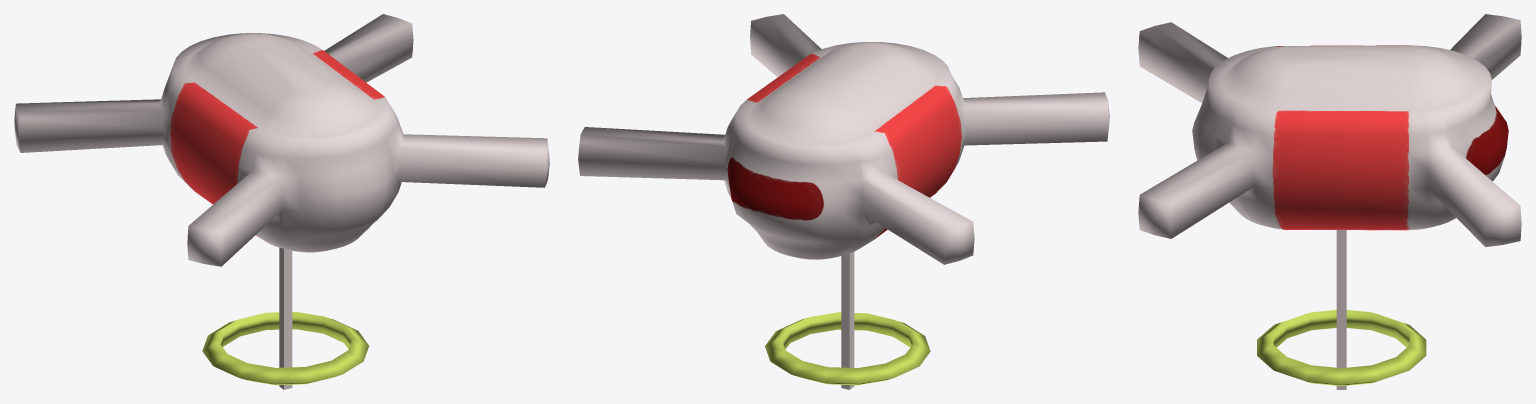
The model's file is Drone.fbx.
3 views of the same model, side by side, from view 1: azimuth 30°, elevation 25°; view 2: azimuth 150°, elevation 25°; view 3: azimuth 270°, elevation 25° (orthographic). The views are drawn at different scales.
Parts seen in each view (by area): view 1: Sphere, Torus.002, Cube; view 2: Sphere, Torus.002, Cube; view 3: Sphere, Torus.002, Cube.
Boxes of the visible parts, box(x1,y1,x2,y2) form: Sphere: box(14, 14, 549, 266); Torus.002: box(202, 311, 368, 385); Cube: box(279, 247, 292, 389); Sphere: box(578, 14, 1109, 264); Torus.002: box(765, 312, 930, 385); Cube: box(841, 252, 854, 389); Sphere: box(1138, 14, 1521, 247); Torus.002: box(1257, 310, 1426, 386); Cube: box(1336, 230, 1346, 389).
Size of the model in its own units: 9.47 by 7.36 by 7.68.
Materials: 3 (3 with a texture image).
